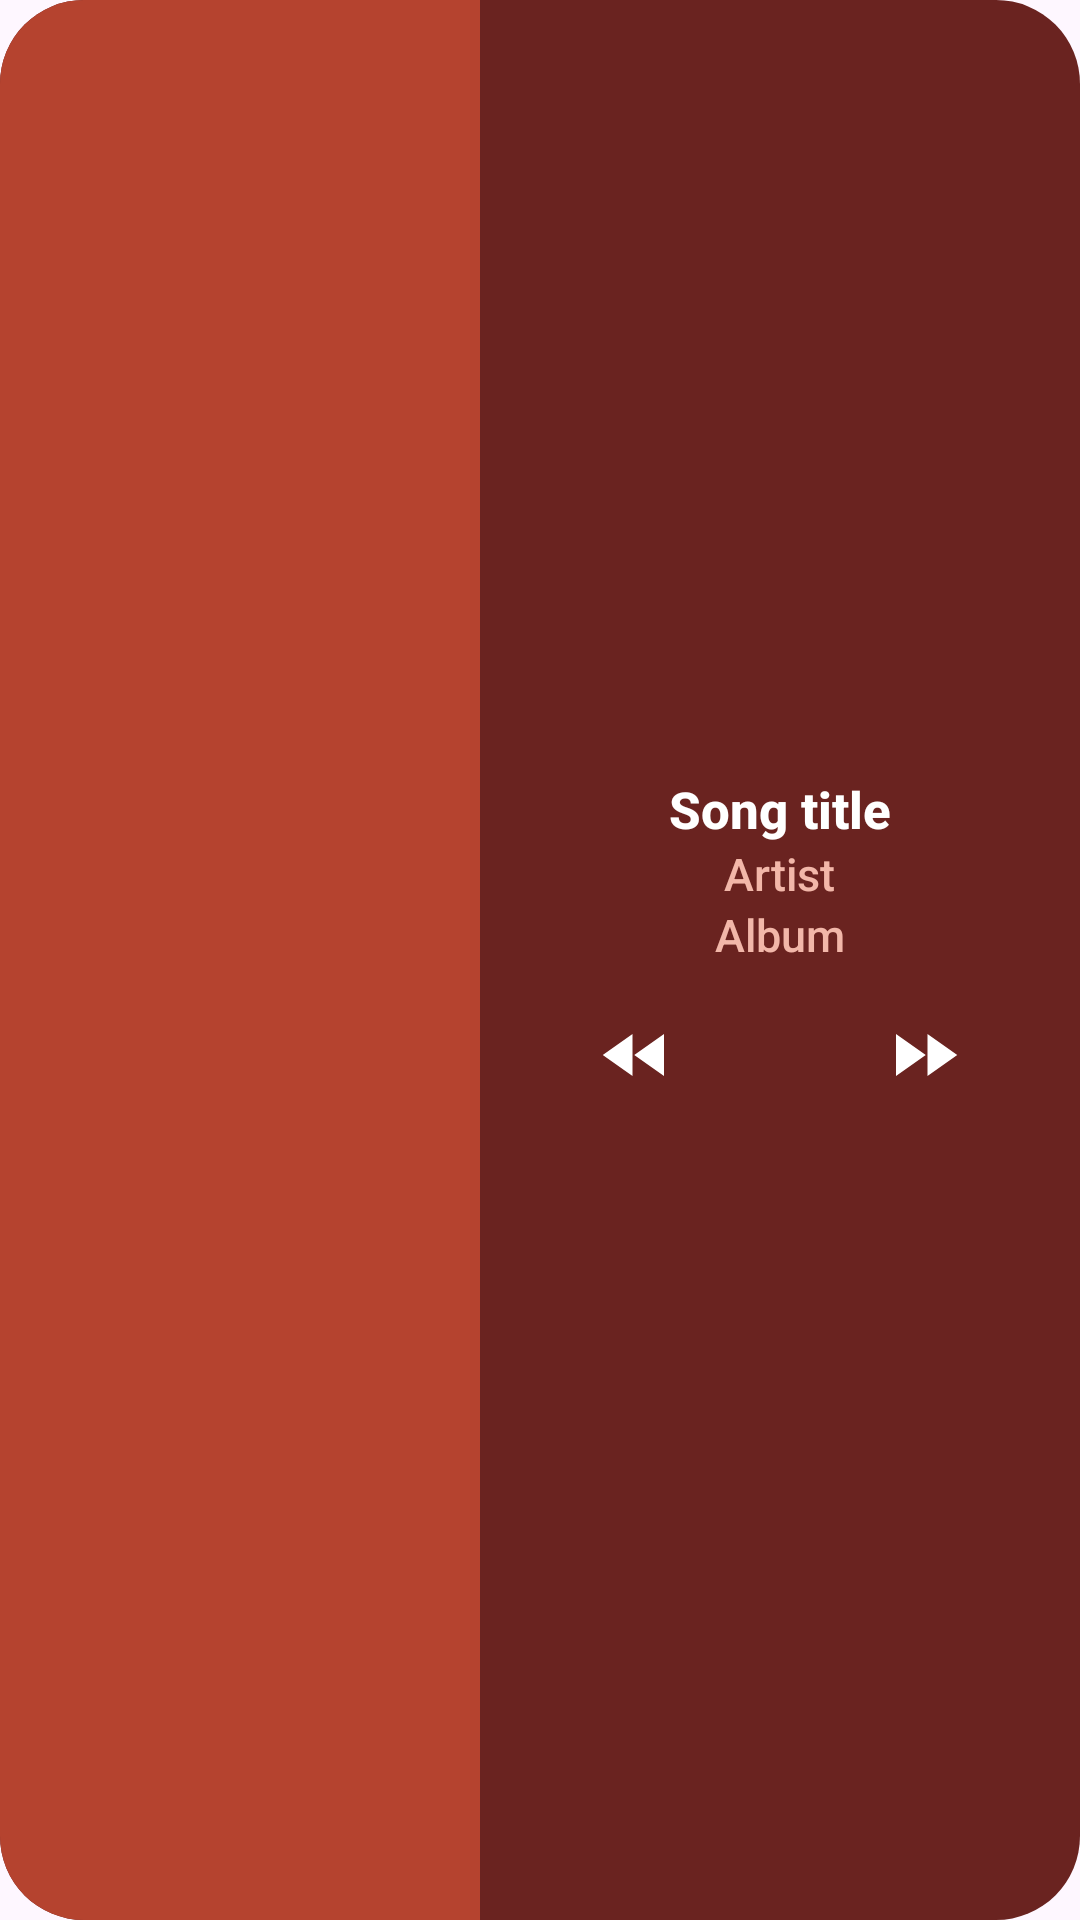

Named icons in this screenshot (1080x1920) and their centers, (x,y):
widget forward: (926,1055)
widget rewind: (633,1055)
